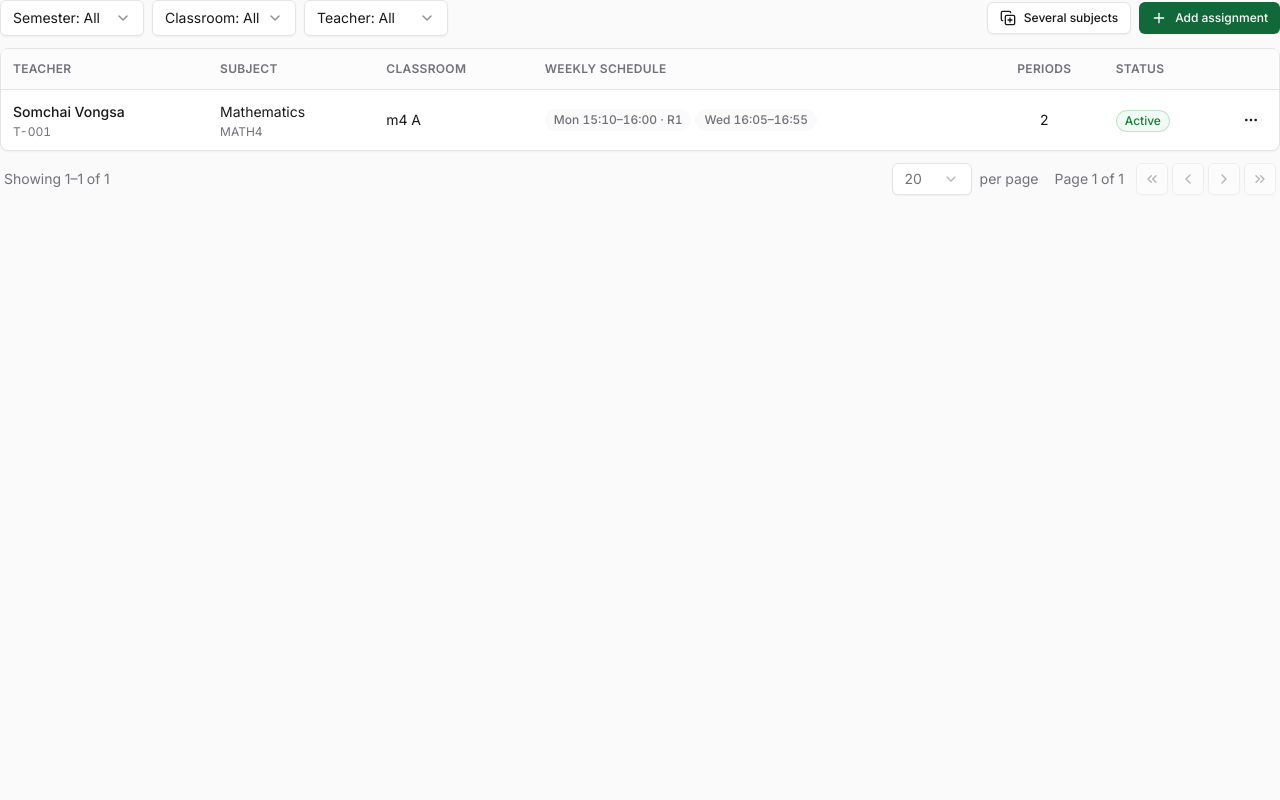
Test: teaching assignments — schedule editor › rejects a period that ends before it starts
Expected: the text "Mathematics" is shown, top-left (220, 100), bottom-right (305, 122)
Click the button named "actions": [1251, 120] box top-left (1235, 104), bottom-right (1267, 136)
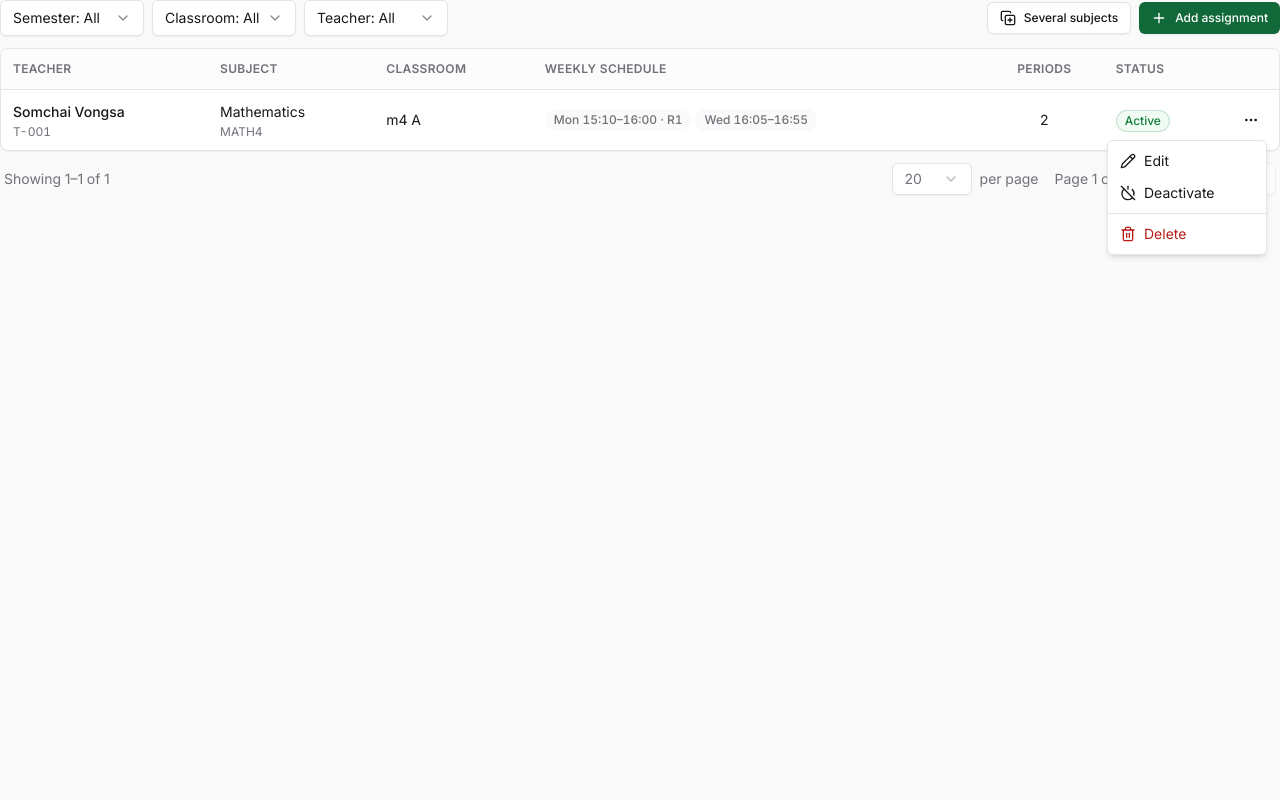
Click the menu item "Edit": [1144, 160] box top-left (1120, 149), bottom-right (1169, 172)
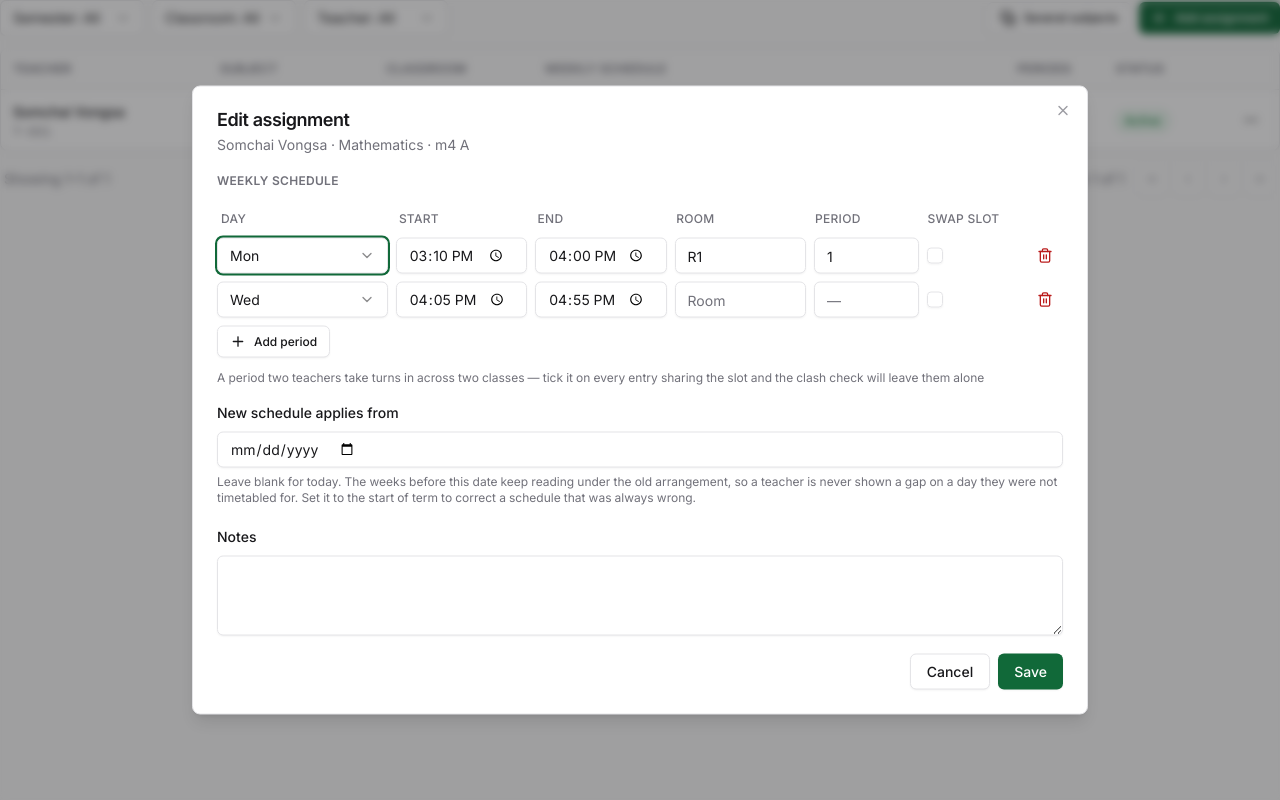
Replace the text in the 1st time field named "end" with "07:00": [601, 256] box top-left (535, 238), bottom-right (667, 274)
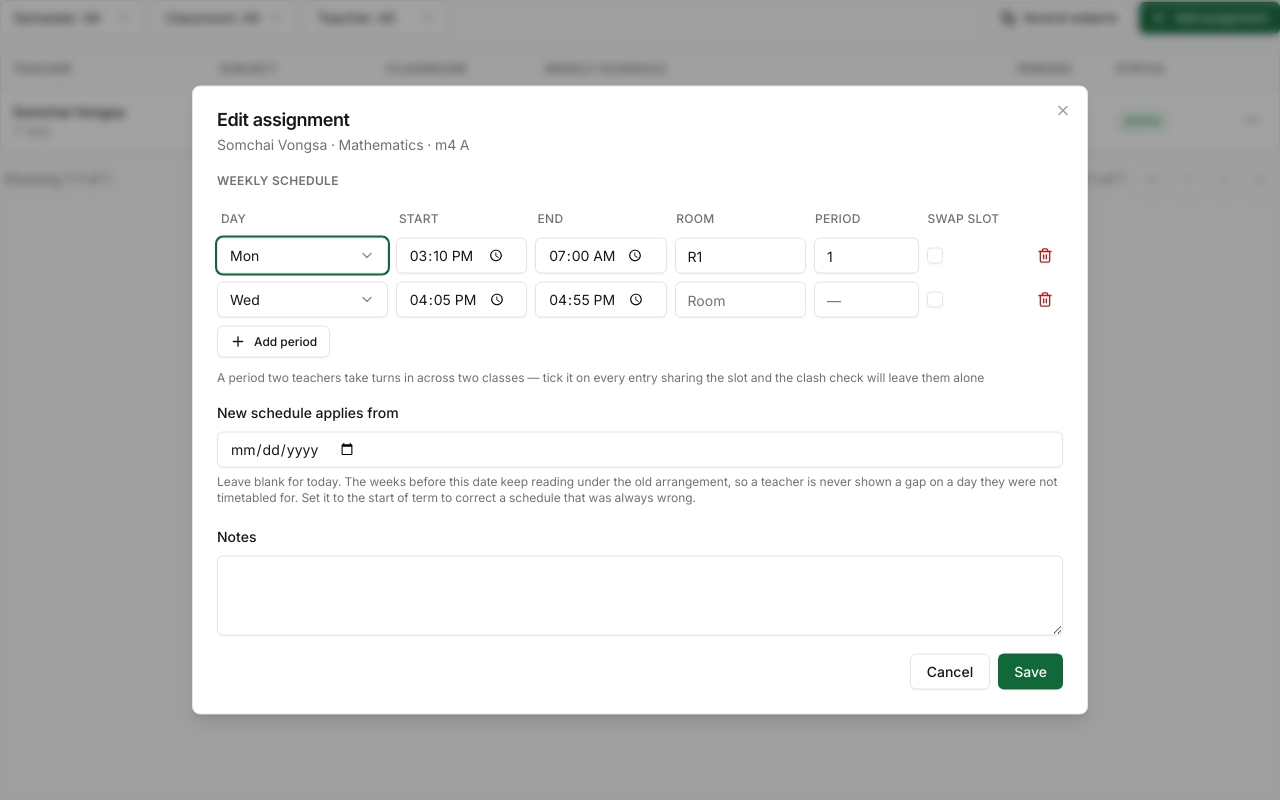
Click the button "Save": [1031, 672] box top-left (998, 654), bottom-right (1063, 690)
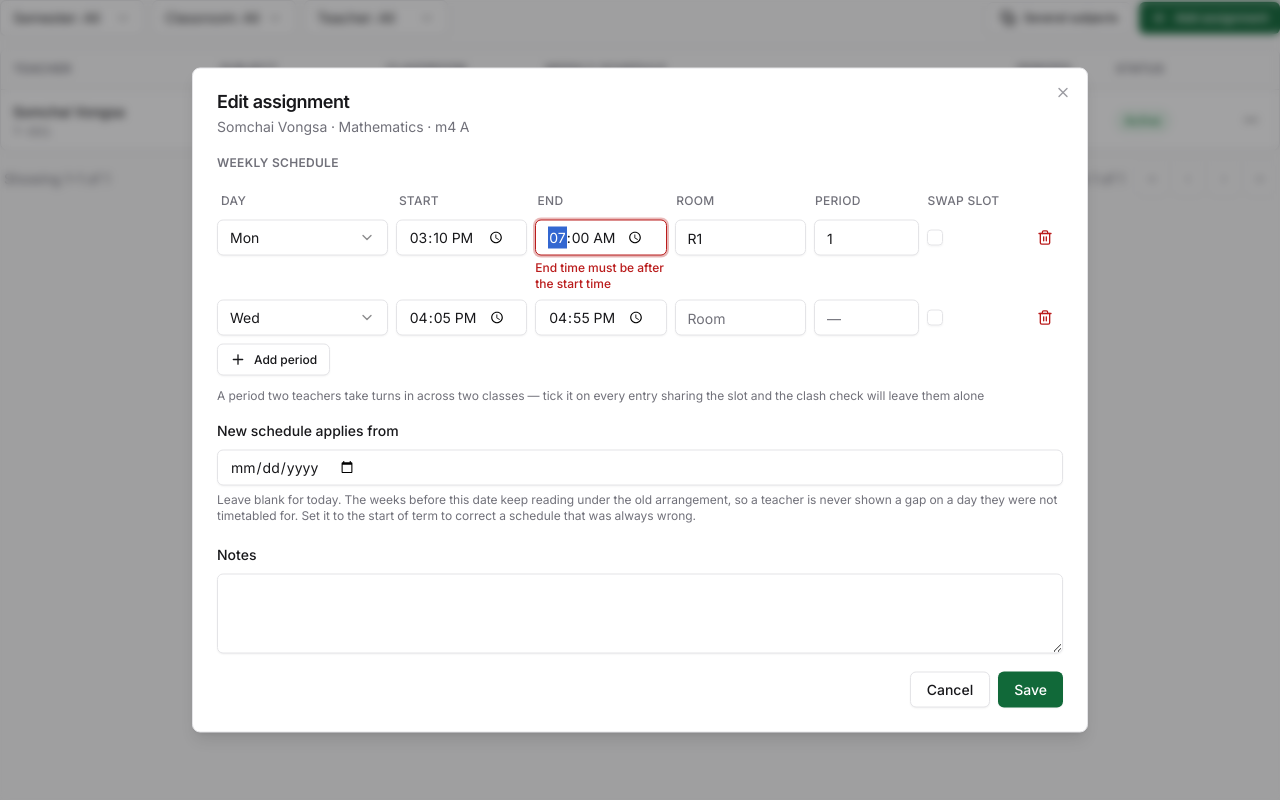
Now the text "End time must be after the start time" is shown, box top-left (535, 260), bottom-right (667, 292)
